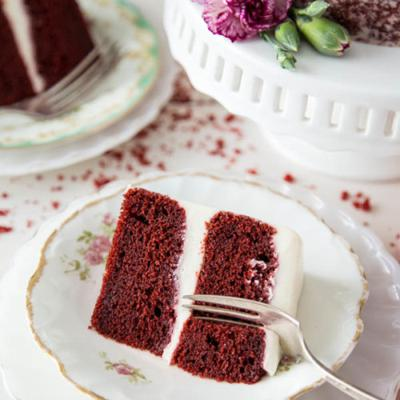cake: (83, 181, 304, 388)
